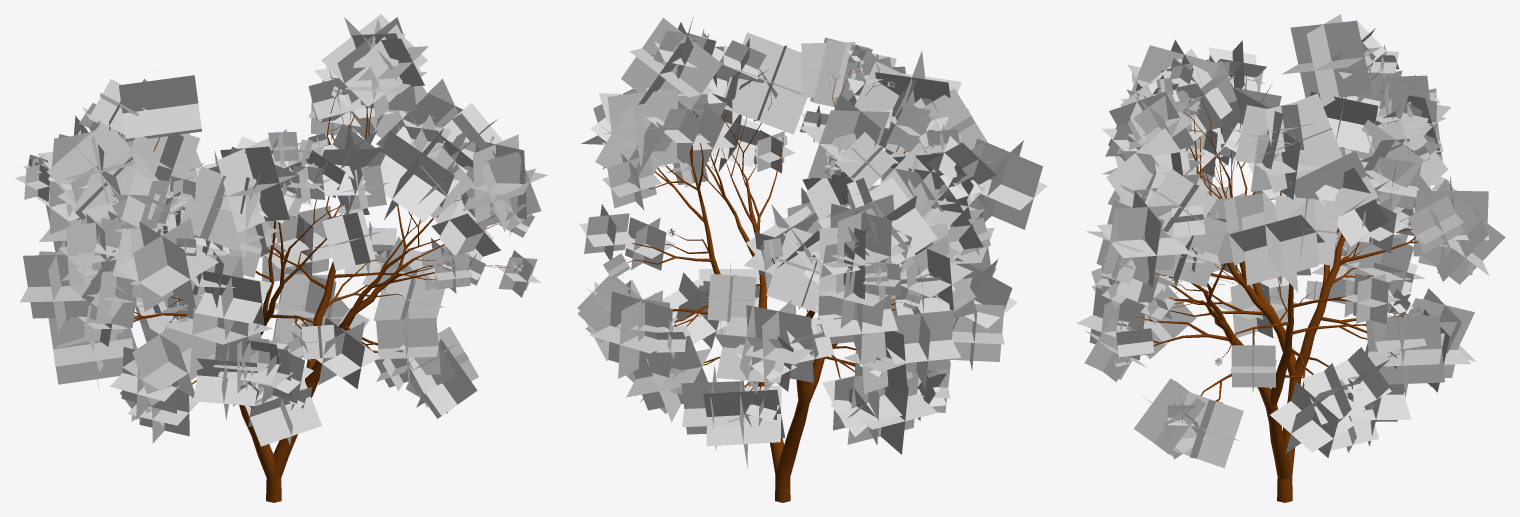
File: Tree0.fbx
3 views of the same model, side by side, from view 1: azimuth 30°, elevation 25°; view 2: azimuth 150°, elevation 25°; view 3: azimuth 270°, elevation 25° (orthographic).
Visible parts, largest first — view 1: tree0, leaves|LeafBase|Dupli|184, leaves|LeafBase|Dupli|101, leaves|LeafBase|Dupli|109, leaves|LeafBase|Dupli|126, leaves|LeafBase|Dupli|113, leaves|LeafBase|Dupli|29, leaves|LeafBase|Dupli|41, leaves|LeafBase|Dupli|148, leaves|LeafBase|Dupli|114, leaves|LeafBase|Dupli|118, leaves|LeafBase|Dupli|124 (+66 smaller); view 2: tree0, leaves|LeafBase|Dupli|101, leaves|LeafBase|Dupli|96, leaves|LeafBase|Dupli|37, leaves|LeafBase|Dupli|184, leaves|LeafBase|Dupli|15, leaves|LeafBase|Dupli|46, leaves|LeafBase|Dupli|148, leaves|LeafBase|Dupli|109, leaves|LeafBase|Dupli|2, leaves|LeafBase|Dupli|29, leaves|LeafBase|Dupli|141 (+59 smaller); view 3: tree0, leaves|LeafBase|Dupli|68, leaves|LeafBase|Dupli|109, leaves|LeafBase|Dupli|37, leaves|LeafBase|Dupli|188, leaves|LeafBase|Dupli|47, leaves|LeafBase|Dupli|23, leaves|LeafBase|Dupli|8, leaves|LeafBase|Dupli|96, leaves|LeafBase|Dupli|79, leaves|LeafBase|Dupli|11, leaves|LeafBase|Dupli|101 (+58 smaller).
Part boxes in pixels (<box>): tree0: <box>119,97,509,502</box>; leaves|LeafBase|Dupli|184: <box>116,218,218,311</box>; leaves|LeafBase|Dupli|101: <box>381,126,467,221</box>; leaves|LeafBase|Dupli|109: <box>119,75,201,141</box>; leaves|LeafBase|Dupli|126: <box>47,123,157,222</box>; leaves|LeafBase|Dupli|113: <box>207,138,298,232</box>; leaves|LeafBase|Dupli|29: <box>48,317,133,391</box>; leaves|LeafBase|Dupli|41: <box>122,316,215,406</box>; leaves|LeafBase|Dupli|148: <box>20,240,91,332</box>; leaves|LeafBase|Dupli|114: <box>179,166,260,251</box>; leaves|LeafBase|Dupli|118: <box>195,256,271,339</box>; leaves|LeafBase|Dupli|124: <box>162,296,272,372</box>; tree0: <box>627,69,935,502</box>; leaves|LeafBase|Dupli|101: <box>721,32,807,134</box>; leaves|LeafBase|Dupli|96: <box>621,18,721,108</box>; leaves|LeafBase|Dupli|37: <box>590,290,691,378</box>; leaves|LeafBase|Dupli|184: <box>969,138,1047,229</box>; leaves|LeafBase|Dupli|15: <box>703,380,784,467</box>; leaves|LeafBase|Dupli|46: <box>731,300,813,390</box>; leaves|LeafBase|Dupli|148: <box>886,303,961,389</box>; leaves|LeafBase|Dupli|109: <box>799,94,898,186</box>; leaves|LeafBase|Dupli|2: <box>626,335,711,422</box>; leaves|LeafBase|Dupli|29: <box>847,372,937,454</box>; leaves|LeafBase|Dupli|141: <box>766,226,819,312</box>; tree0: <box>1129,69,1435,502</box>; leaves|LeafBase|Dupli|68: <box>1229,191,1324,292</box>; leaves|LeafBase|Dupli|109: <box>1282,14,1380,106</box>; leaves|LeafBase|Dupli|37: <box>1366,312,1444,398</box>; leaves|LeafBase|Dupli|188: <box>1097,191,1190,287</box>; leaves|LeafBase|Dupli|47: <box>1412,201,1505,284</box>; leaves|LeafBase|Dupli|23: <box>1270,381,1354,457</box>; leaves|LeafBase|Dupli|8: <box>1173,391,1243,468</box>; leaves|LeafBase|Dupli|96: <box>1259,93,1342,193</box>; leaves|LeafBase|Dupli|79: <box>1289,150,1379,227</box>; leaves|LeafBase|Dupli|11: <box>1134,378,1205,456</box>; leaves|LeafBase|Dupli|101: <box>1106,128,1208,207</box>.
Bounding box in the file's own units: 8.27 × 8.62 × 7.41.
